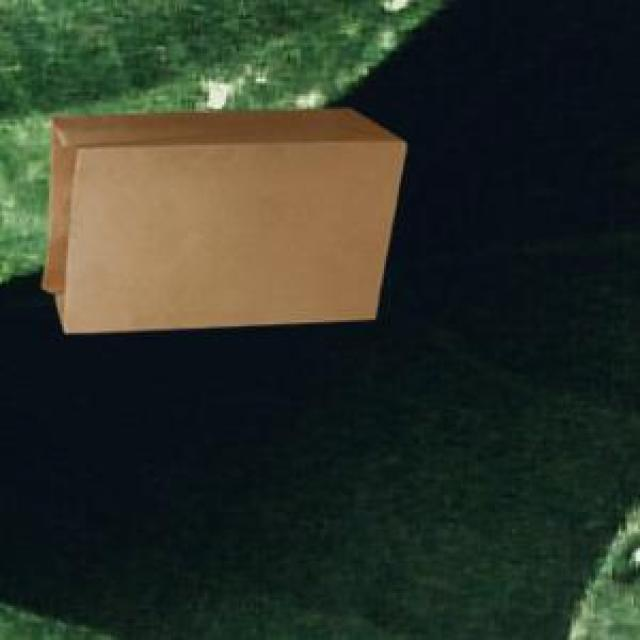paper: (38, 105, 401, 329)
